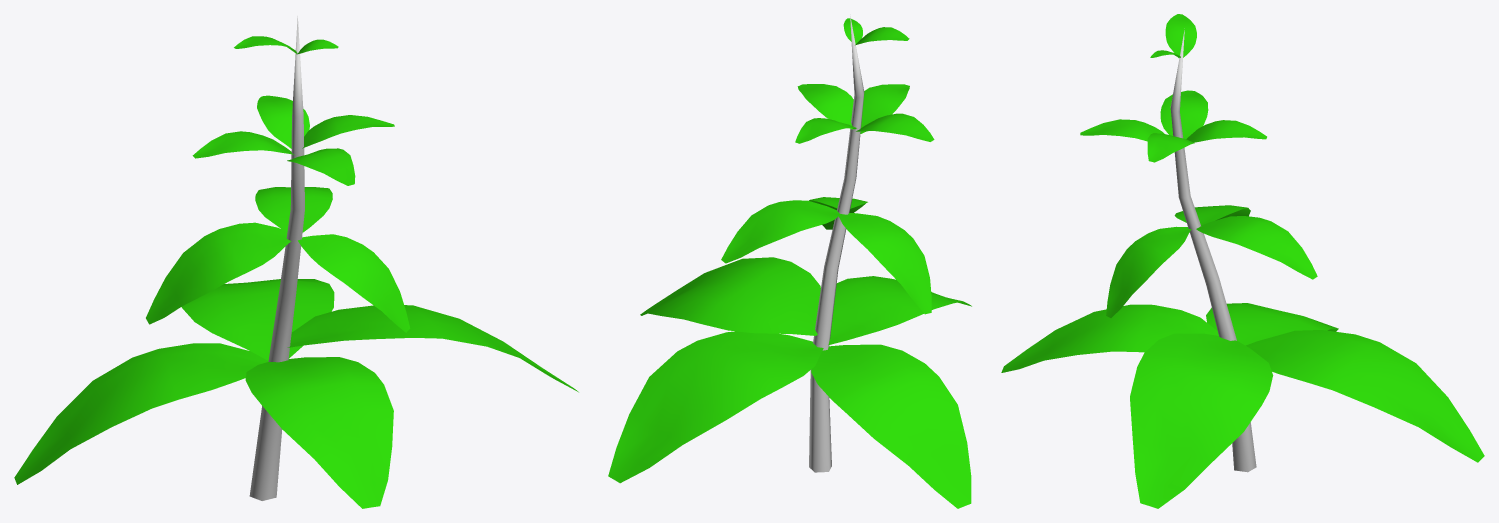
Rendered from Plant_SmallA.fbx.
The picture shows the model from 3 angles, left to right: view 1: azimuth 30°, elevation 25°; view 2: azimuth 150°, elevation 25°; view 3: azimuth 270°, elevation 25°; orthographic projection. The views are drawn at different scales.
Parts seen in each view (by area): view 1: PlantALP; view 2: PlantALP; view 3: PlantALP.
Boxes of the visible parts, left/top/right/bottom form: PlantALP: left=14, top=16, right=578, bottom=508; PlantALP: left=608, top=14, right=971, bottom=508; PlantALP: left=1001, top=14, right=1484, bottom=508.
Bounding box in the file's own units: 480 × 492 × 490.
